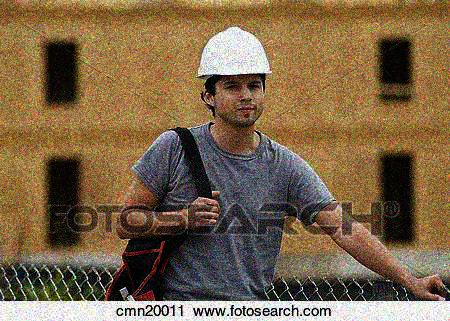helmet: (199, 23, 275, 126)
